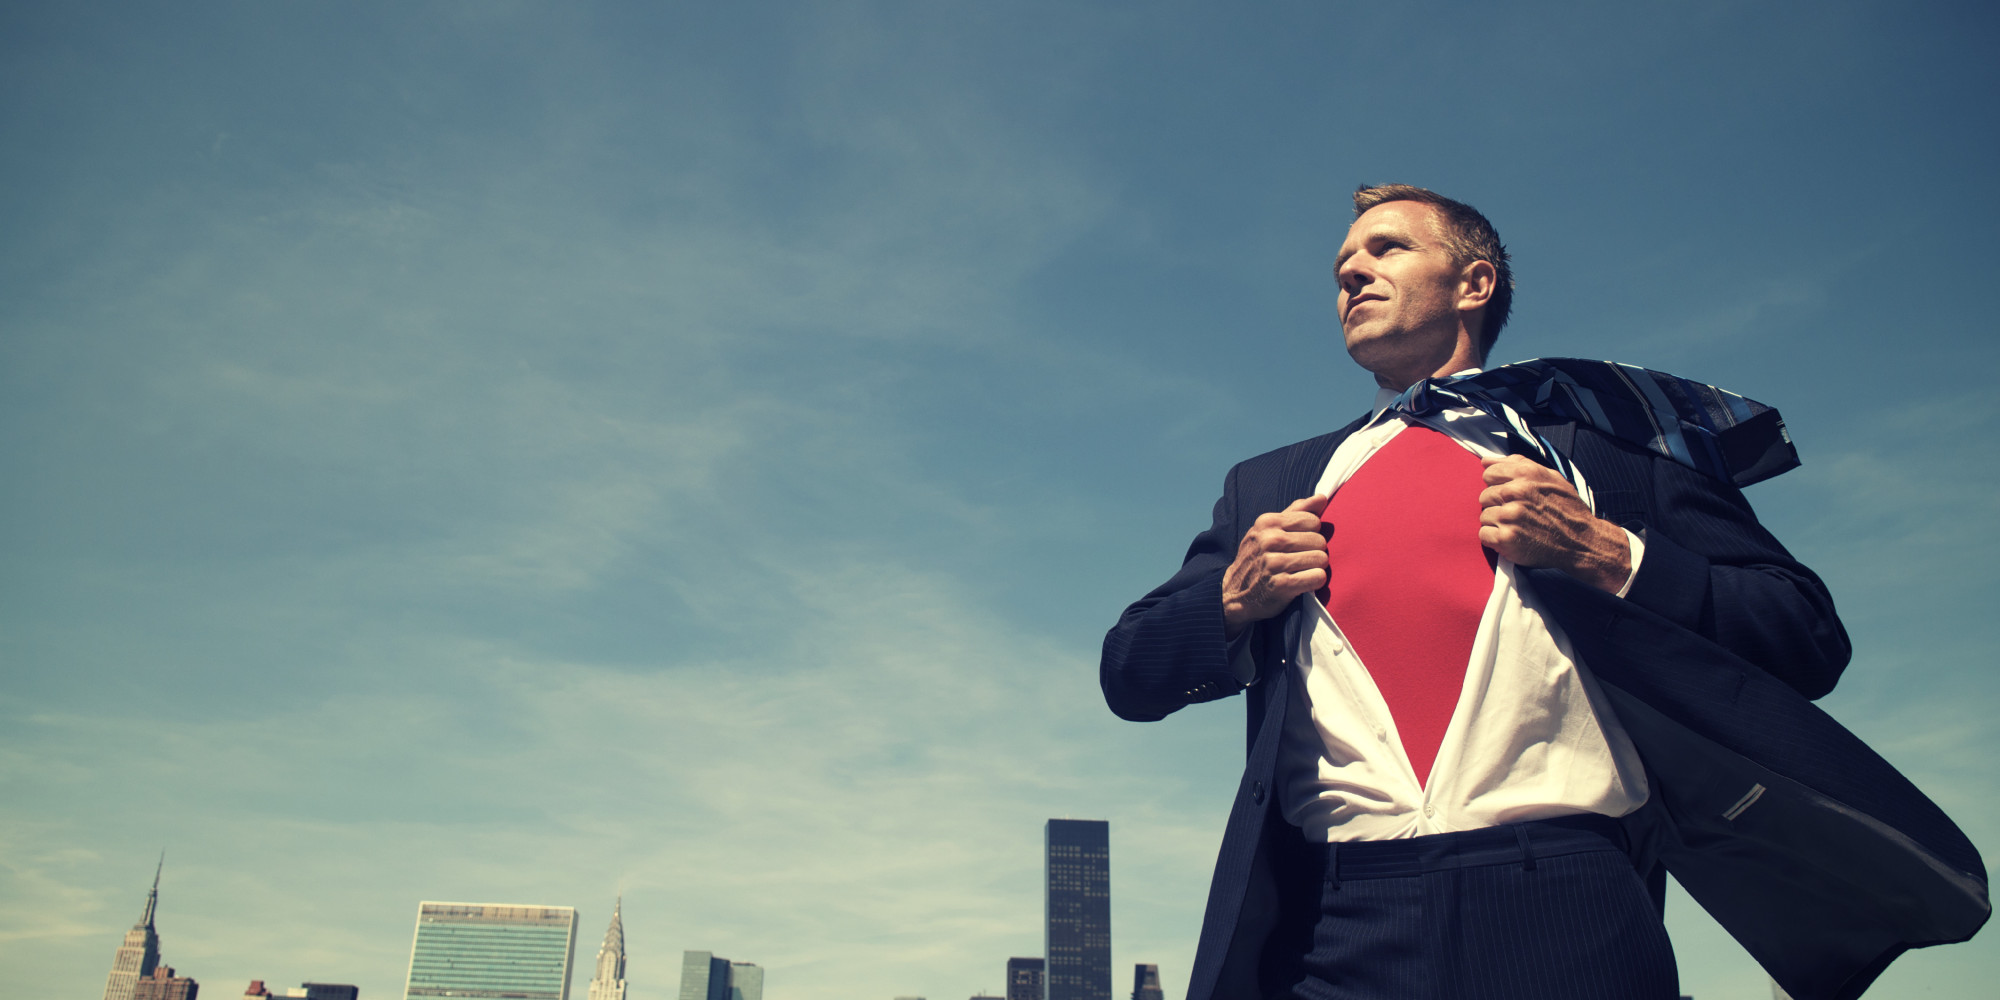human: (1077, 154, 1864, 1000)
